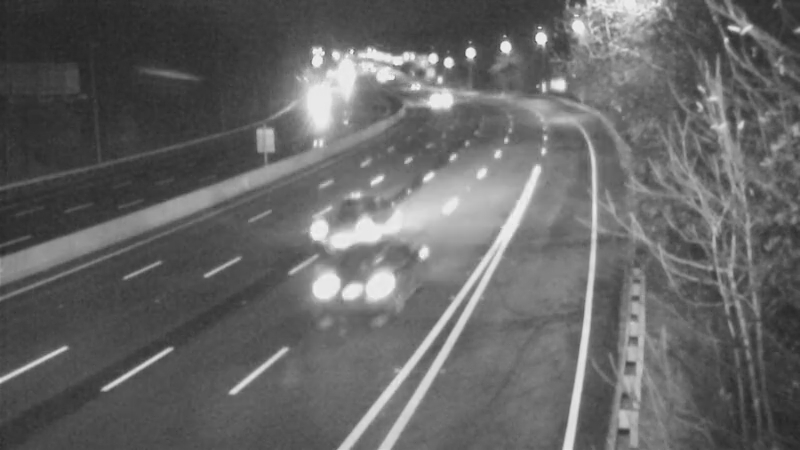vehicle: (307, 179, 387, 259), (306, 248, 386, 328), (386, 60, 436, 110), (407, 73, 457, 123), (294, 70, 344, 120)
